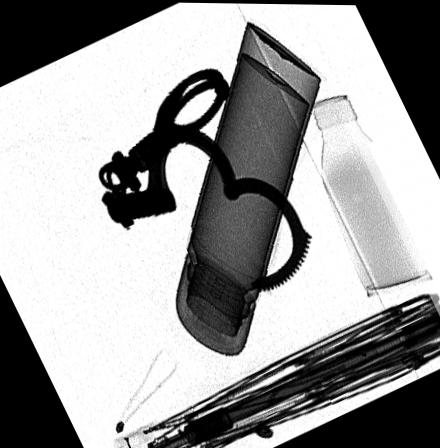HandCuffs: (97, 68, 310, 292)
